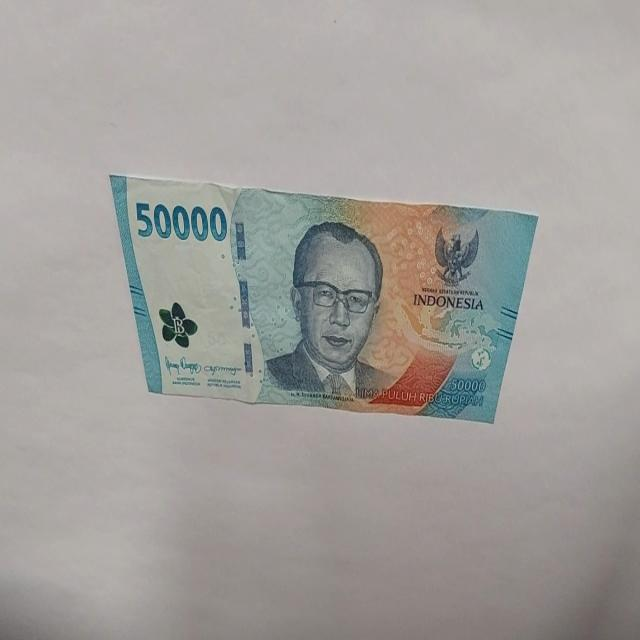lima puluh ribu rupiah: (108, 170, 539, 424), (262, 218, 395, 402), (134, 198, 228, 244)
